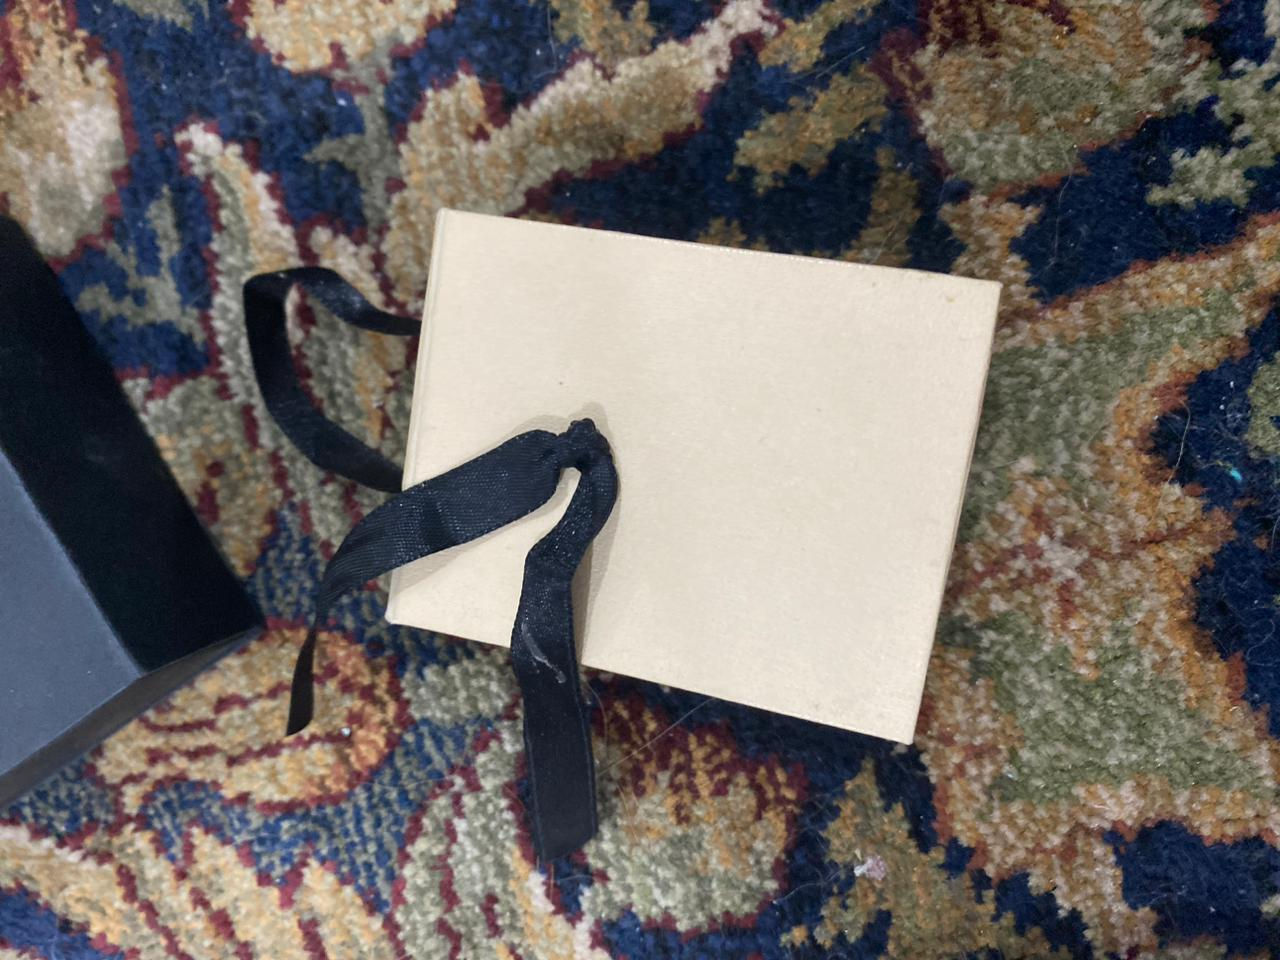Red Box: (3, 218, 267, 801)
Yellow Box: (374, 204, 1008, 754)
